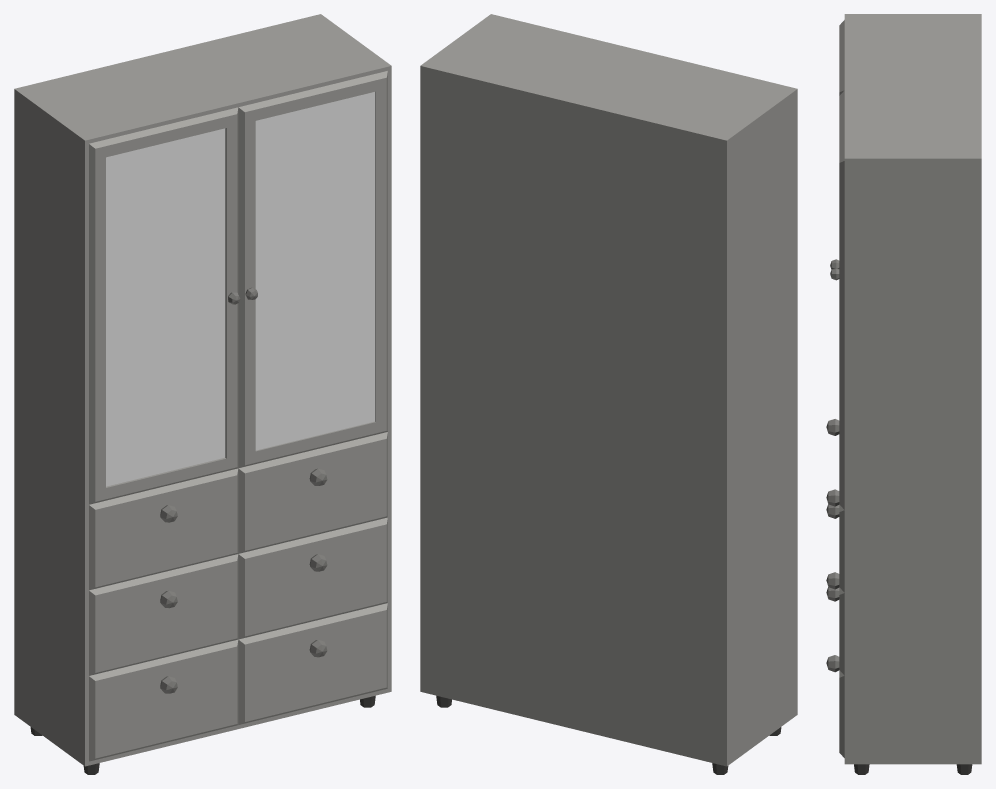
The model's file is SM_Props_Interior_House_Room_Dresser_02.fbx.
3 views of the same model, side by side, from view 1: azimuth 30°, elevation 25°; view 2: azimuth 150°, elevation 25°; view 3: azimuth 270°, elevation 25° (orthographic). The views are drawn at different scales.
Parts seen in each view (by area): view 1: SM_Props_Interior_House_Room_Dresser_02; view 2: SM_Props_Interior_House_Room_Dresser_02; view 3: SM_Props_Interior_House_Room_Dresser_02.
Part boxes in pixels (left/top/right/bottom): SM_Props_Interior_House_Room_Dresser_02: left=14, top=14, right=391, bottom=774; SM_Props_Interior_House_Room_Dresser_02: left=420, top=14, right=797, bottom=774; SM_Props_Interior_House_Room_Dresser_02: left=826, top=14, right=981, bottom=774.
Bounding box in the file's own units: 100 × 200 × 45.33.
